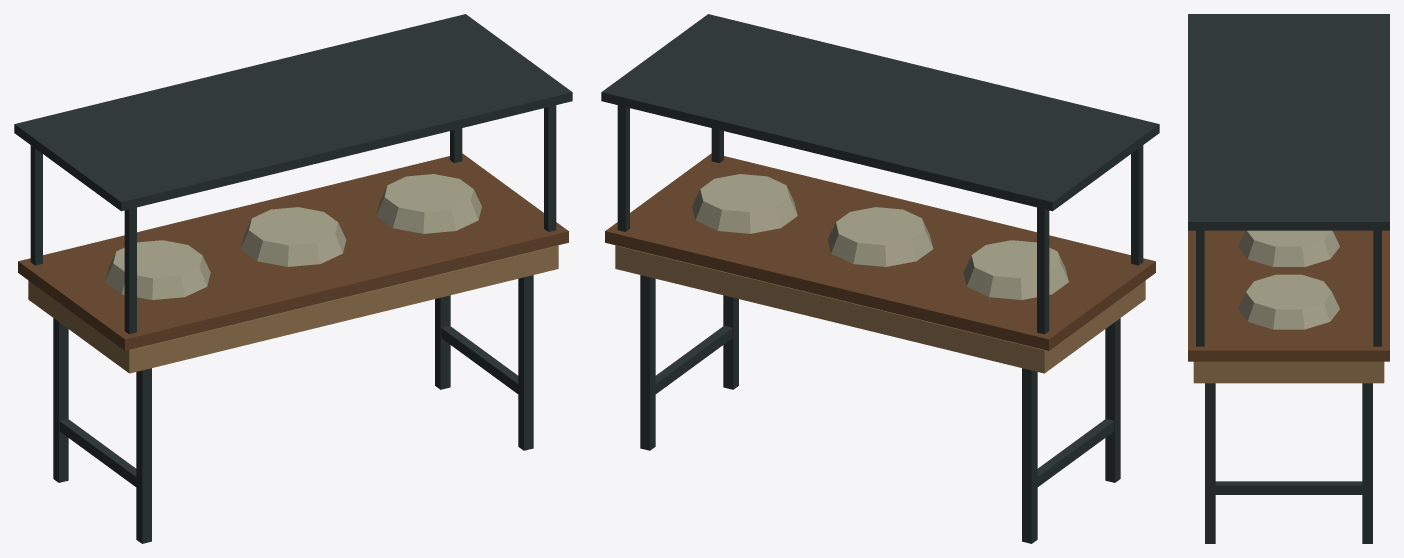
The model's file is food_counter.glb.
3 views of the same model, side by side, from view 1: azimuth 30°, elevation 25°; view 2: azimuth 150°, elevation 25°; view 3: azimuth 270°, elevation 25° (orthographic). The views are drawn at different scales.
Visible parts, largest first — view 1: food_counter; view 2: food_counter; view 3: food_counter.
Part boxes in pixels (bbox=[...]): food_counter: bbox=[14, 14, 572, 543]; food_counter: bbox=[601, 14, 1159, 543]; food_counter: bbox=[1188, 14, 1389, 543].
Bounding box in the file's own units: 1.83 × 1.38 × 0.75.
